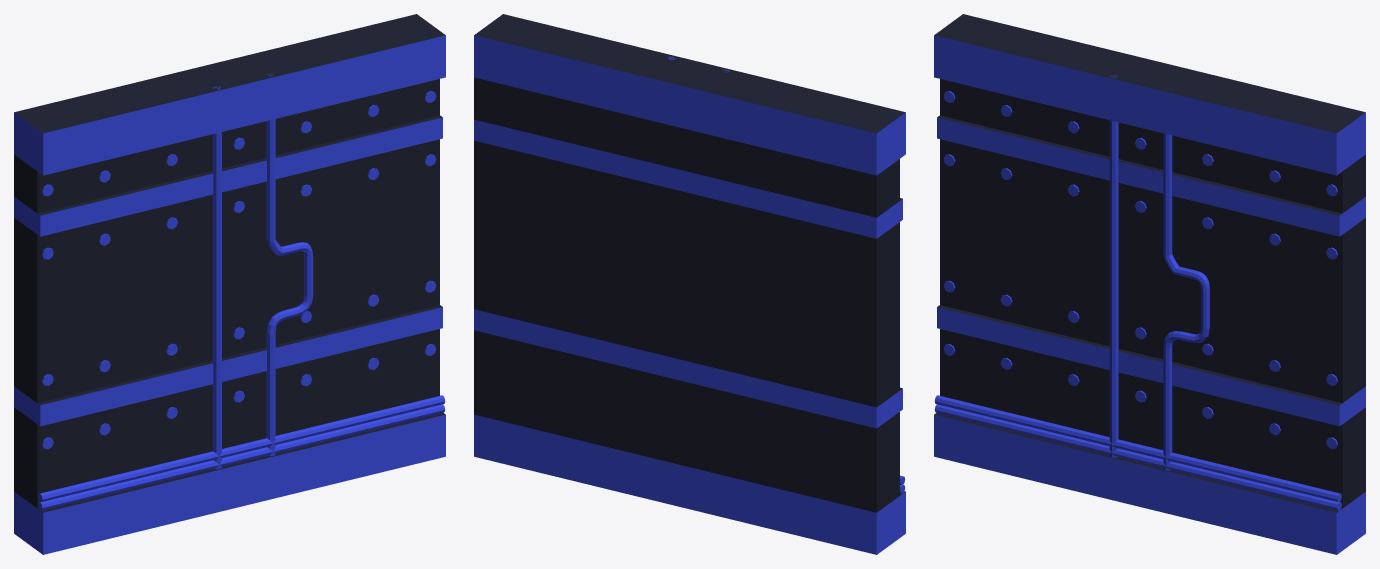
File: Wall_B.fbx
The picture shows the model from 3 angles, left to right: view 1: azimuth 30°, elevation 25°; view 2: azimuth 150°, elevation 25°; view 3: azimuth 330°, elevation 25°; orthographic projection.
Visible parts, largest first — view 1: Wall_B; view 2: Wall_B; view 3: Wall_B.
Boxes of the visible parts, left/top/right/bottom form: Wall_B: left=14, top=14, right=445, bottom=554; Wall_B: left=474, top=14, right=905, bottom=554; Wall_B: left=934, top=14, right=1365, bottom=554.
Bounding box in the file's own units: 200 × 200 × 25.
